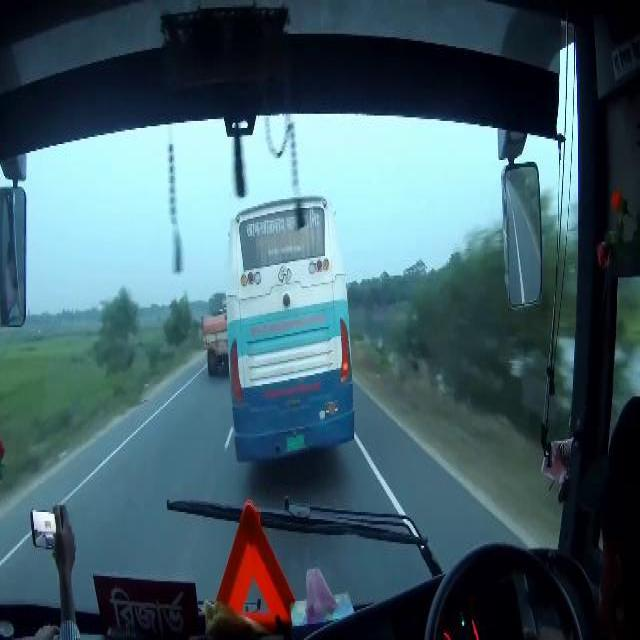18: (202, 304, 224, 375)
Truck: (226, 201, 354, 464)
